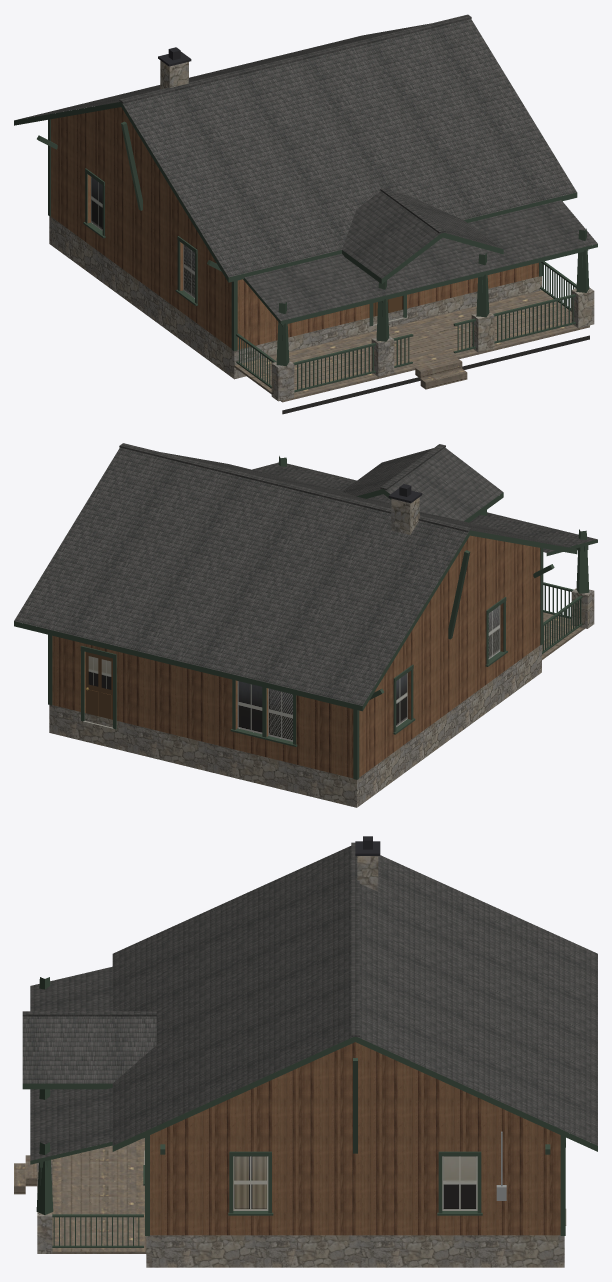
The model's file is town_house_c.gltf.
3 renders of one model, top to bottom at view 1: azimuth 30°, elevation 25°; view 2: azimuth 150°, elevation 25°; view 3: azimuth 270°, elevation 25°, orthographic. The views are drawn at different scales.
Visible parts, largest first — view 1: TownHouseC_Roof, TownHouseC_Walls, TownHouseC_Deck, TownHouseC_Foundation, TownHouseC_Railing, TownHouseC_Fascia, TownHouseC_PostPiers, TownHouseC_Trim, TownHouseC_Ridge, TownHouseC_PostTaper, TownHouseC_PorchUnder, TownHouseC_Steps (+3 smaller); view 2: TownHouseC_Roof, TownHouseC_Walls, TownHouseC_Foundation, TownHouseC_Window, TownHouseC_Trim, TownHouseC_Fascia, TownHouseC_Ridge, TownHouseC_Railing, TownHouseC_ClosedDoor, TownHouseC_Chimney, TownHouseC_Brackets, TownHouseC_Deck (+2 smaller); view 3: TownHouseC_Roof, TownHouseC_Walls, TownHouseC_Foundation, TownHouseC_Deck, TownHouseC_Fascia, TownHouseC_Window, TownHouseC_Trim, TownHouseC_Ridge, TownHouseC_Railing, TownHouseC_PostTaper, TownHouseC_PostPiers, TownHouseC_Steps (+2 smaller).
Part boxes in pixels (x1,y1,x2,y2): TownHouseC_Roof: (17,19,597,320); TownHouseC_Walls: (50,107,538,349); TownHouseC_Deck: (234,290,589,402); TownHouseC_Foundation: (49,216,541,379); TownHouseC_Railing: (236,261,576,392); TownHouseC_Fascia: (14,102,597,324); TownHouseC_PostPiers: (271,287,594,401); TownHouseC_Trim: (48,119,588,351); TownHouseC_Ridge: (119,14,471,233); TownHouseC_PostTaper: (276,228,589,366); TownHouseC_PorchUnder: (282,335,589,414); TownHouseC_Steps: (415,358,467,389); TownHouseC_Roof: (14,447,597,705); TownHouseC_Walls: (52,535,540,778); TownHouseC_Foundation: (49,645,541,807); TownHouseC_Window: (88,605,500,741); TownHouseC_Trim: (48,545,588,779); TownHouseC_Fascia: (14,489,597,711); TownHouseC_Ridge: (119,443,471,532); TownHouseC_Railing: (542,582,582,654); TownHouseC_ClosedDoor: (85,652,112,719); TownHouseC_Chimney: (391,497,419,534); TownHouseC_Brackets: (370,550,554,699); TownHouseC_Deck: (542,612,584,659); TownHouseC_Roof: (22,846,597,1160); TownHouseC_Walls: (150,1042,560,1235); TownHouseC_Foundation: (146,1235,564,1267); TownHouseC_Deck: (52,1138,146,1253); TownHouseC_Fascia: (22,1037,597,1164); TownHouseC_Window: (233,1156,477,1210); TownHouseC_Trim: (40,1135,565,1235); TownHouseC_Ridge: (22,842,359,1036); TownHouseC_Railing: (52,1214,143,1247); TownHouseC_PostTaper: (36,977,53,1214); TownHouseC_PostPiers: (37,1159,52,1253); TownHouseC_Steps: (14,1155,37,1194).
Size of what is drawn, in the model's own units: 10.88 by 7.41 by 13.96.
Materials: 2 (2 with a texture image).
